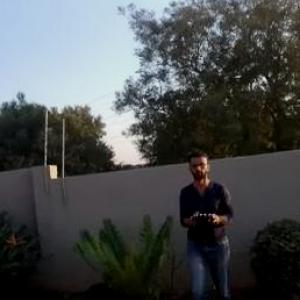follow: (170, 151, 237, 299)
